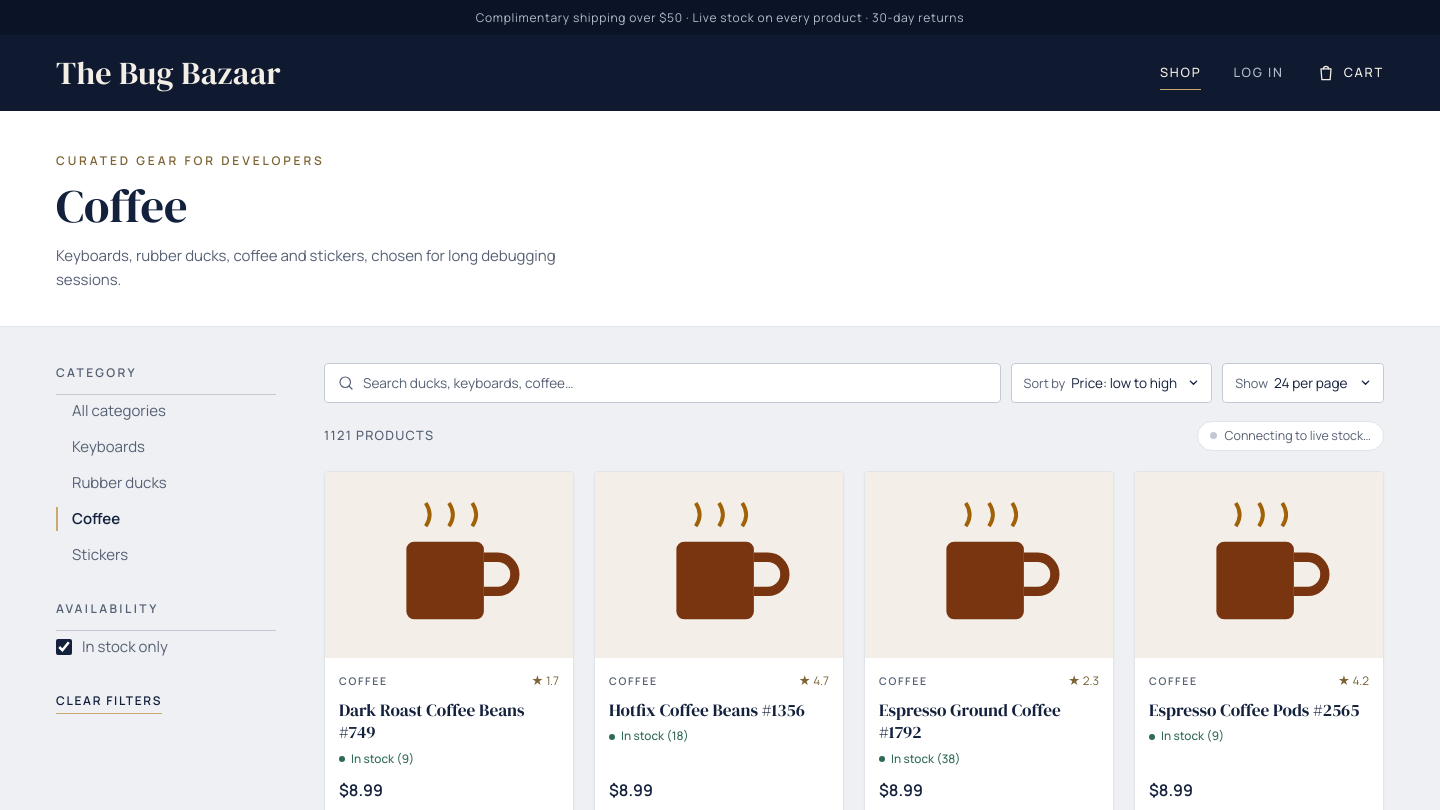
filtering the catalogue › a shared link opens the same filtered view, and Clear filters resets it
Expected: the radio button labelled "Coffee" is checked, top-left (56, 507), bottom-right (276, 531)
Expected: the checkbox labelled "In stock only" is checked, top-left (56, 639), bottom-right (72, 655)
Click the button "Clear filters" at (109, 703), box top-left (56, 691), bottom-right (162, 714)
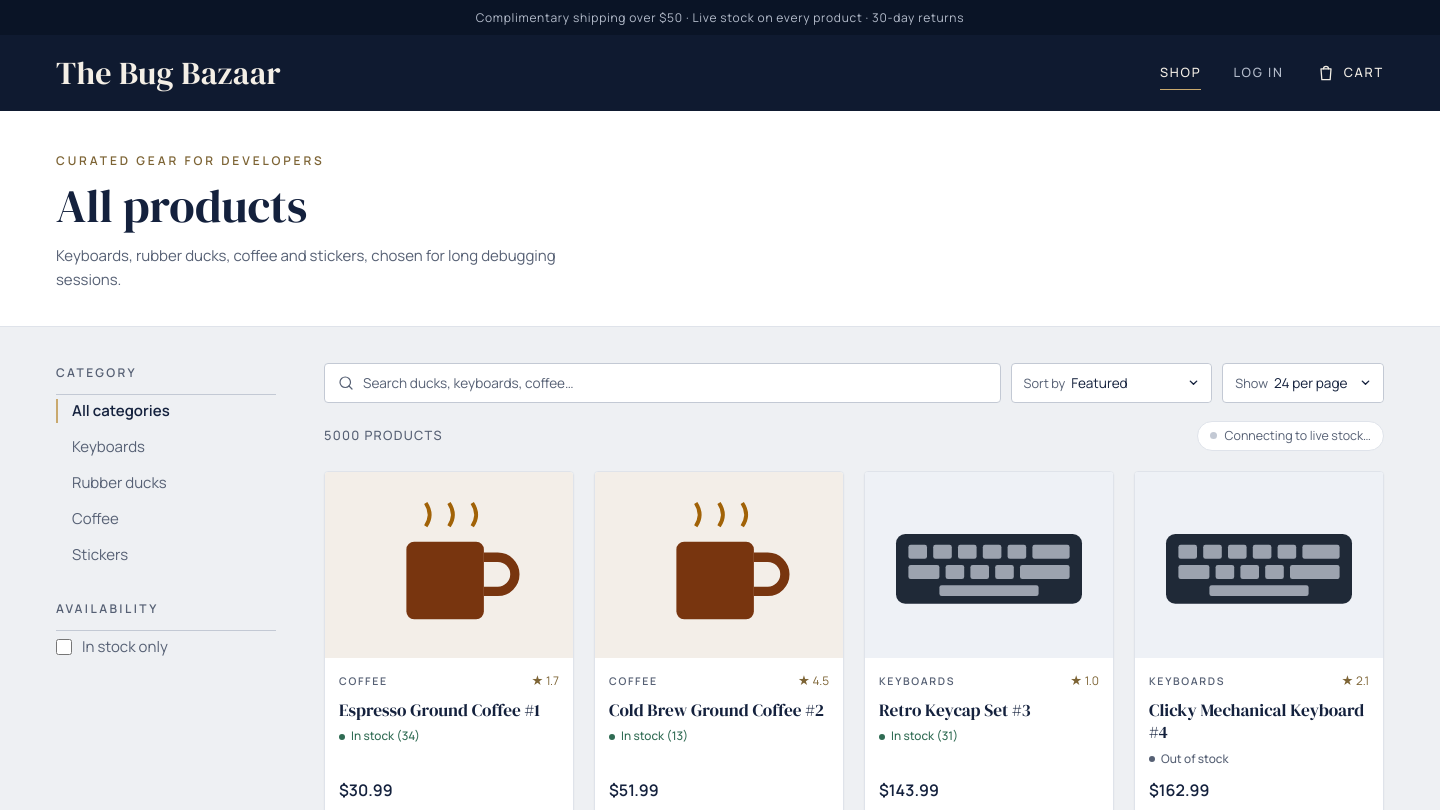
Expected: the text "5000 products" is shown, top-left (324, 426), bottom-right (443, 446)
